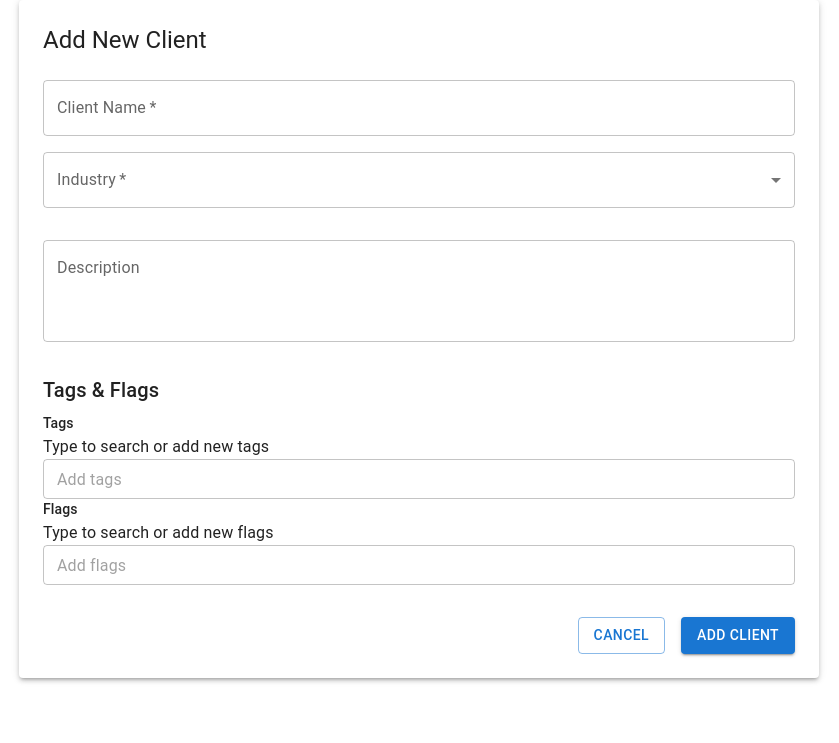
Test: ClientForm › validates required fields
Step 1. Click the button "Add Client" → (738, 636), box x1=681 y1=617 x2=795 y2=654
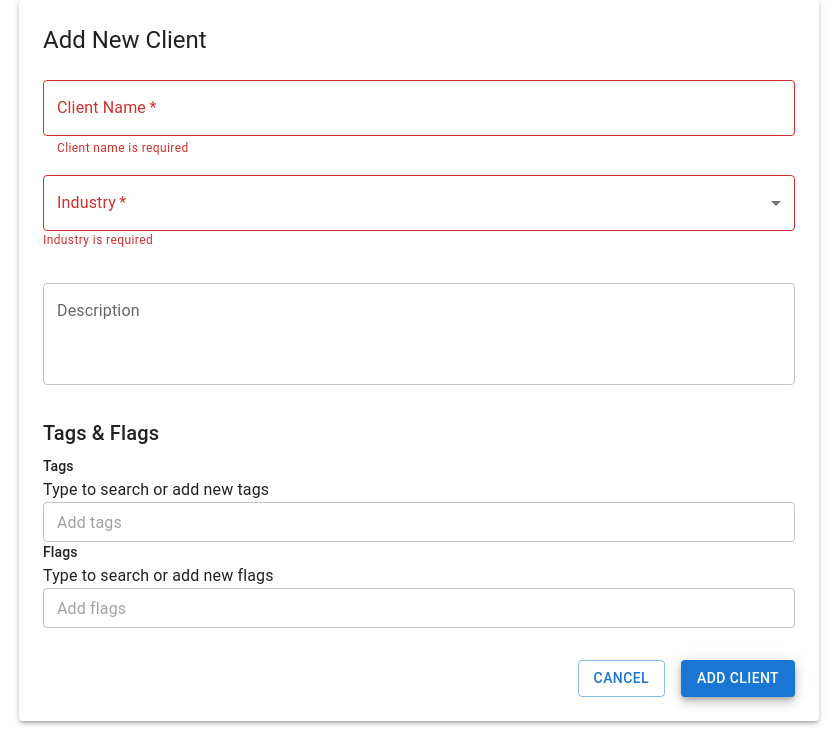
Now the text "Client name is required" is shown, box x1=57 y1=141 x2=189 y2=155
